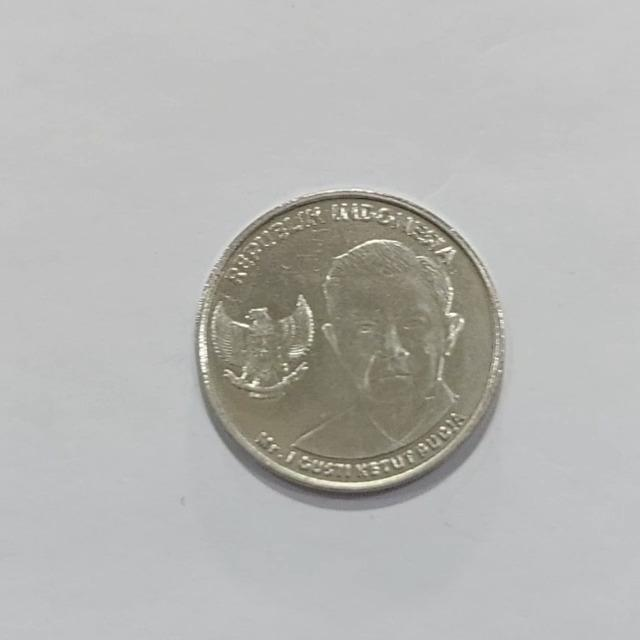Rp100: (194, 187, 506, 497)
